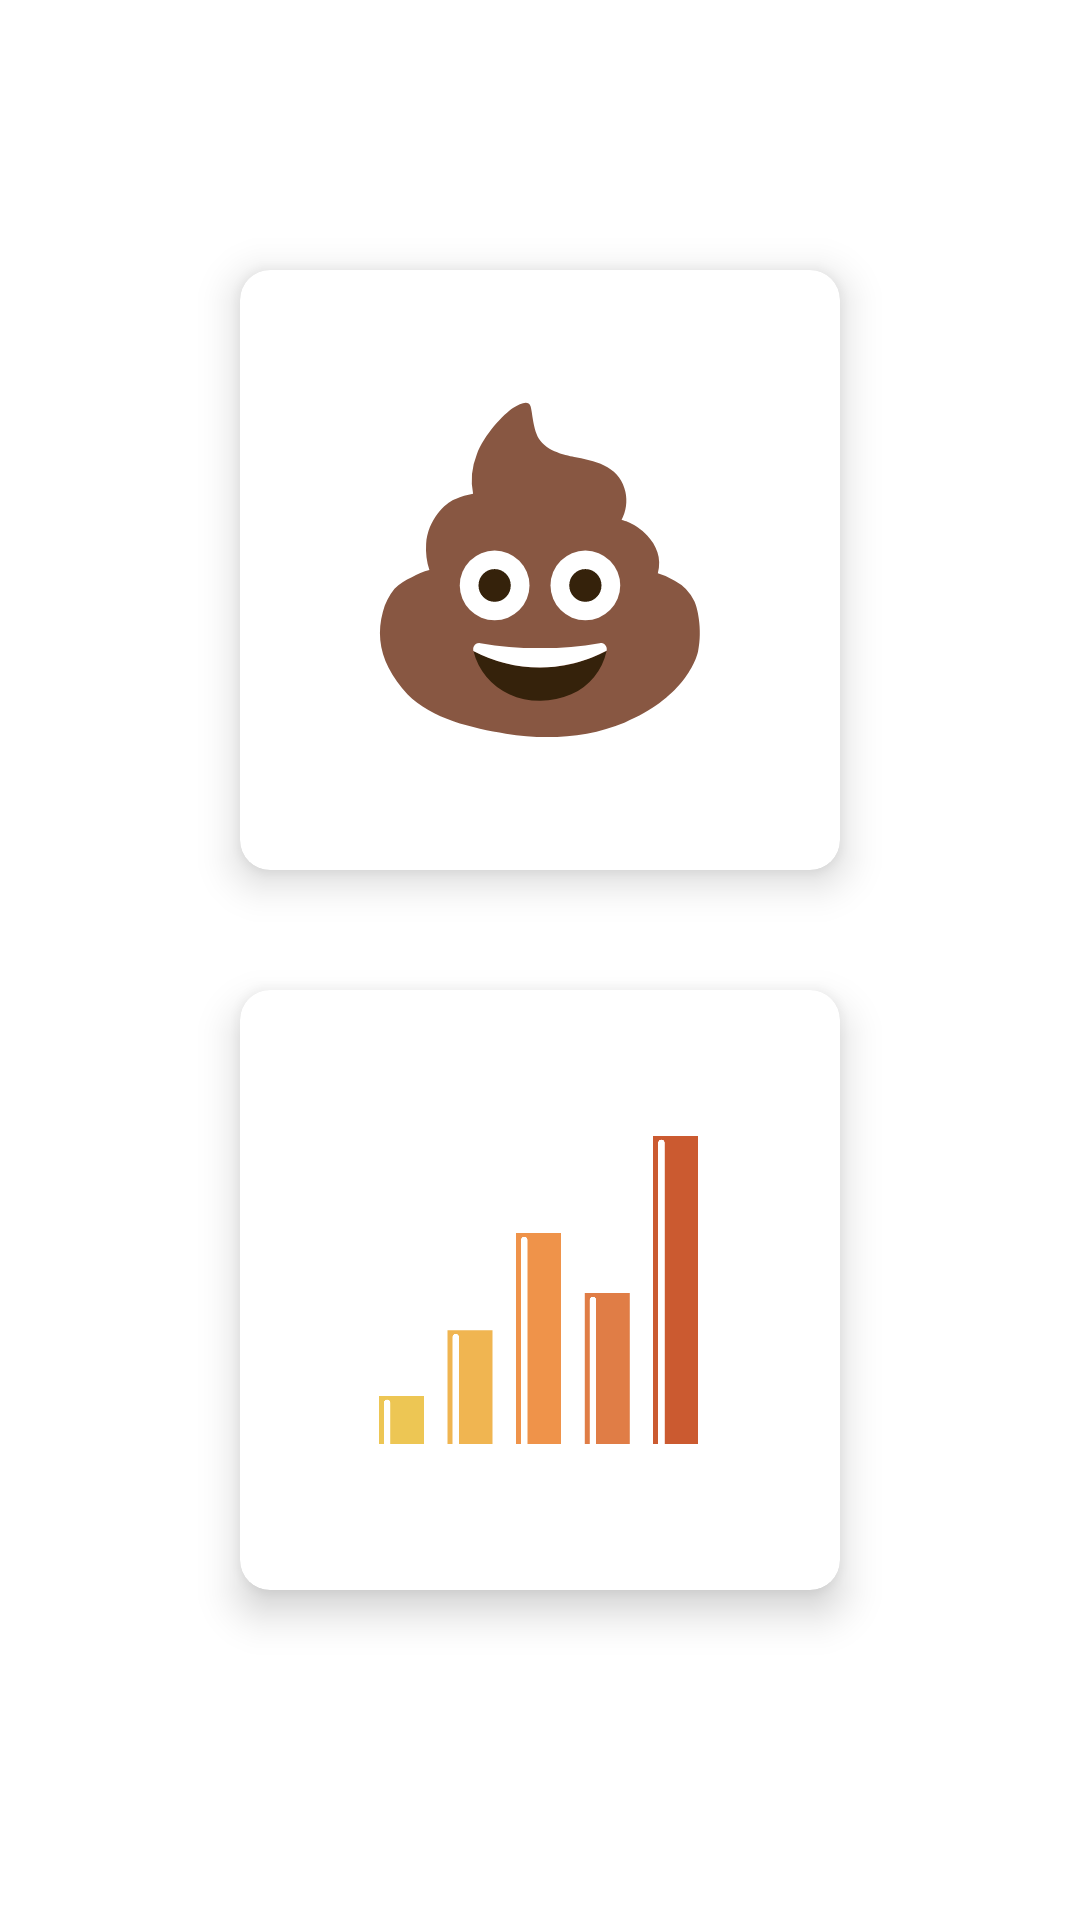

Locate icon controls on the screen. Image size 1080x1920, boxes as bbox=(x1, y1, x2, y2).
poop: bbox=(380, 403, 700, 737)
